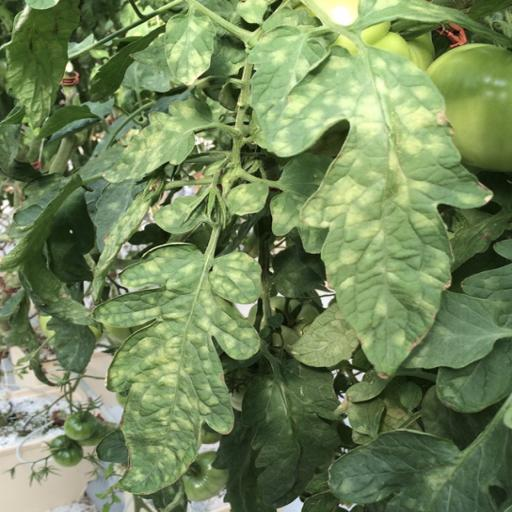disease_tomato: (258, 44, 493, 380), (99, 239, 263, 493), (98, 80, 218, 187), (124, 16, 216, 96)
